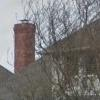Chimney: (9, 14, 48, 78)
